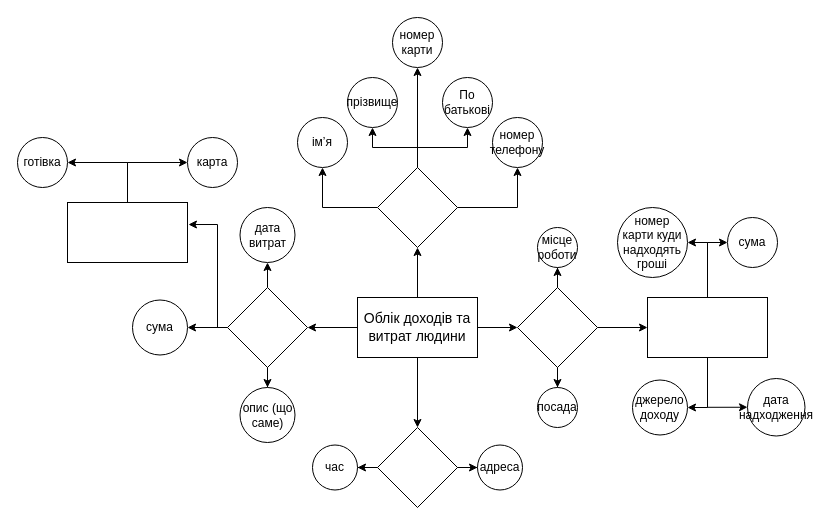
Image size: 831x525. Some labels were removed from this diagram. Each missing label, with the centre of its shape:
витрати: pixel 267 327
дохід (заробітня плата): pixel 707 327
метод оплати: pixel 127 232
Місце транзакції: pixel 417 467
робота: pixel 557 327
інформація про людини: pixel 417 207
